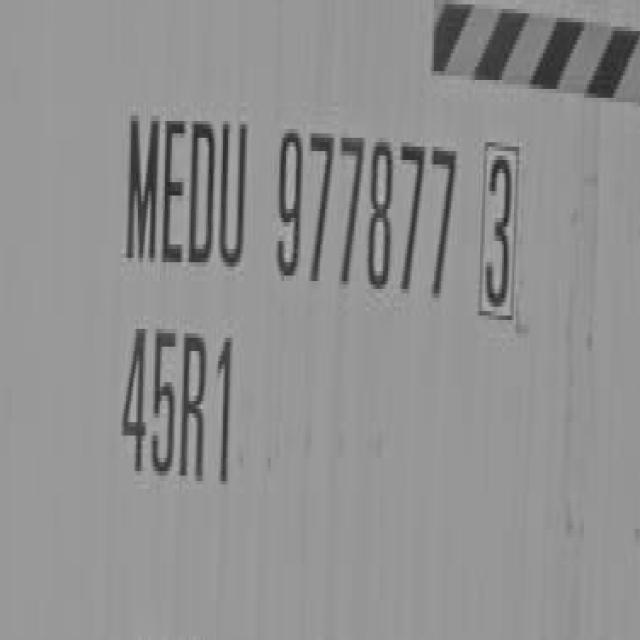dv: (476, 131, 523, 336)
owner: (116, 82, 253, 275)
serial: (272, 94, 458, 312)
size: (117, 317, 242, 511)
